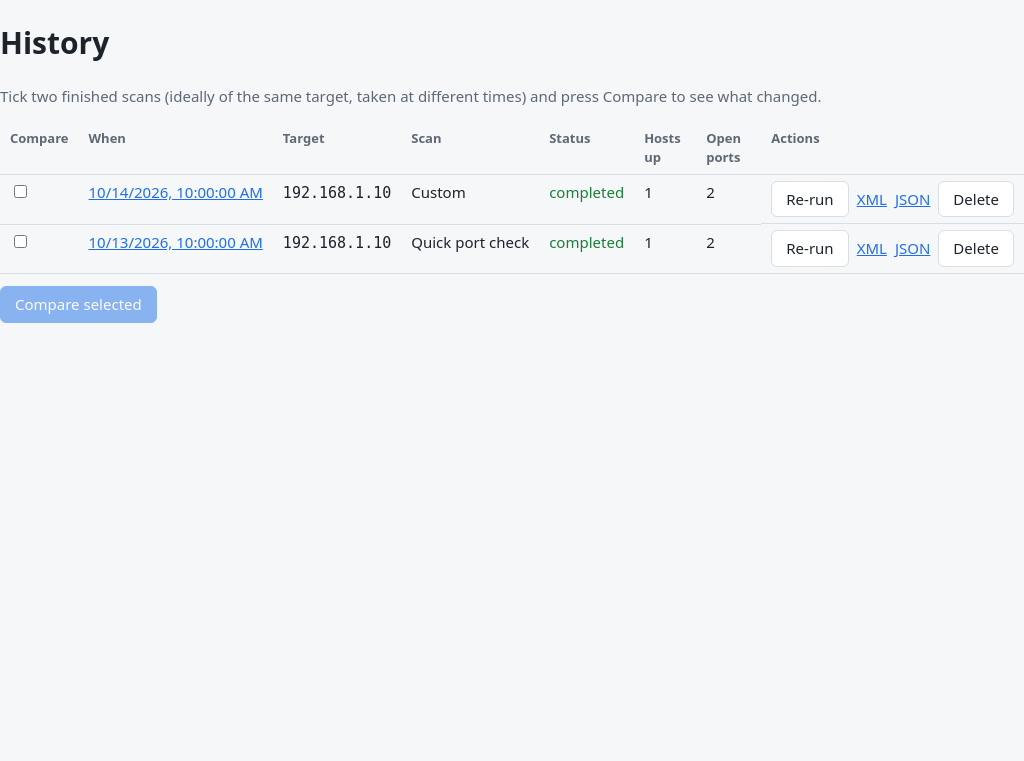
compare two scans, older first
expect the button "Compare selected" is disabled: met, box [0, 286, 157, 323]
Step 1. Click the checkbox named "Select scan of 192.168.1.10 from 10/14/2026, 10:00:00 AM" → (20, 191), box [14, 185, 27, 198]
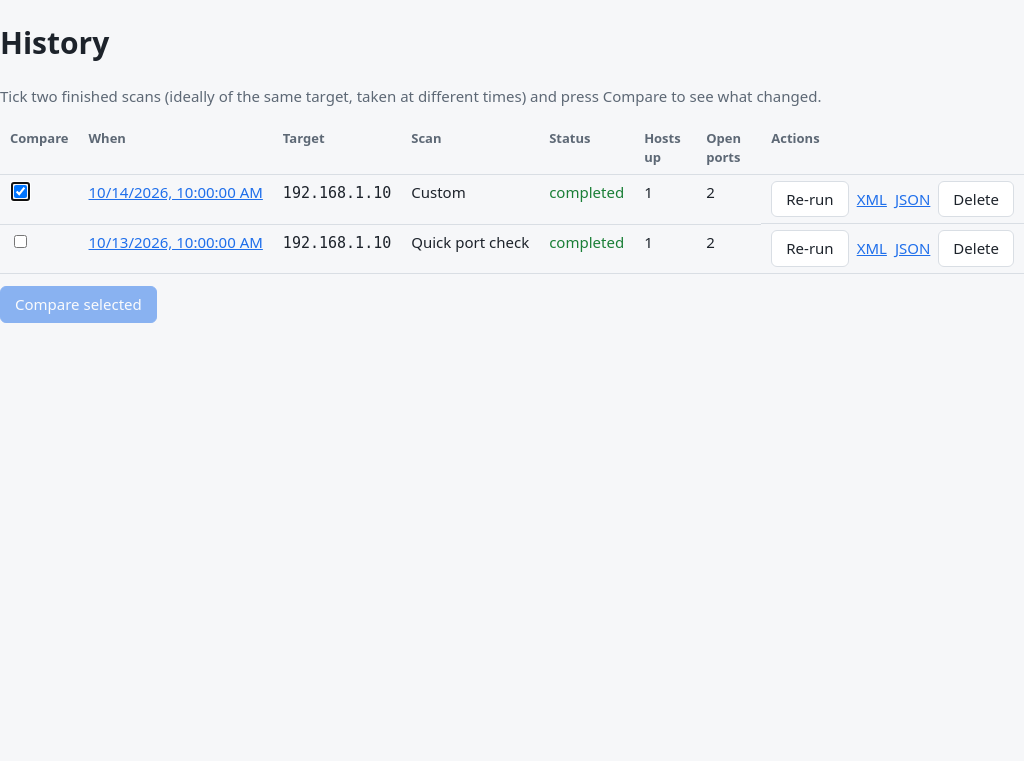
expect the button "Compare selected" is disabled: met, box [0, 286, 157, 323]
Step 2. Click the checkbox named "Select scan of 192.168.1.10 from 10/13/2026, 10:00:00 AM" → (20, 241), box [14, 235, 27, 248]
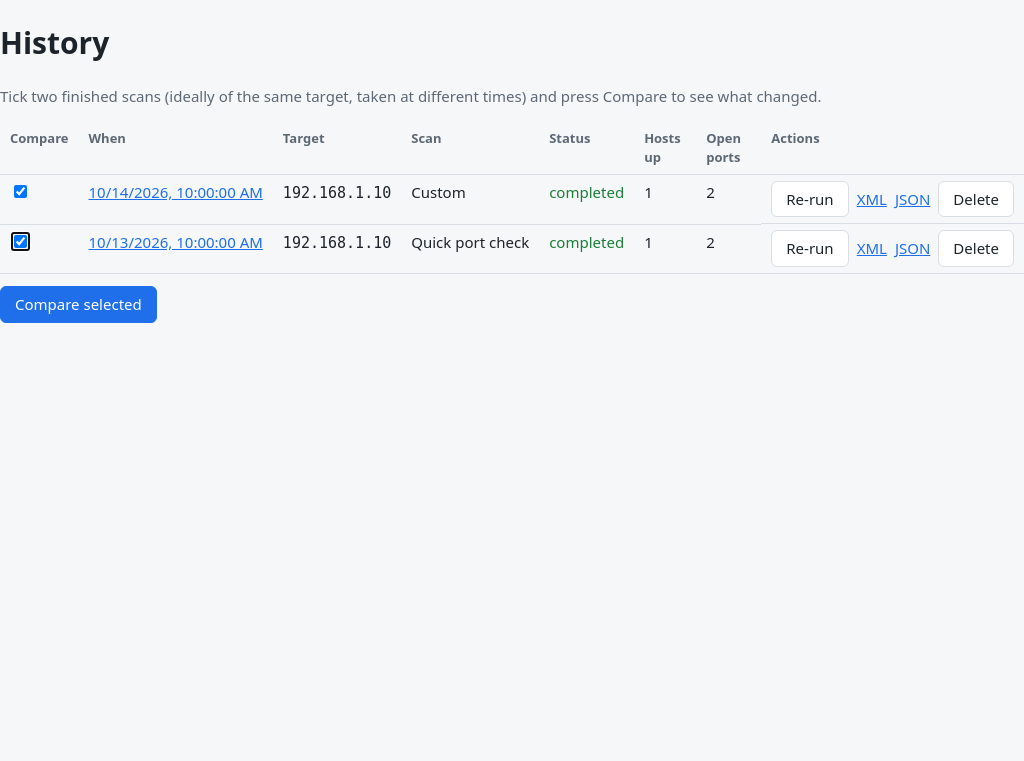
Step 3. Click the button "Compare selected" → (78, 304), box [0, 286, 157, 323]
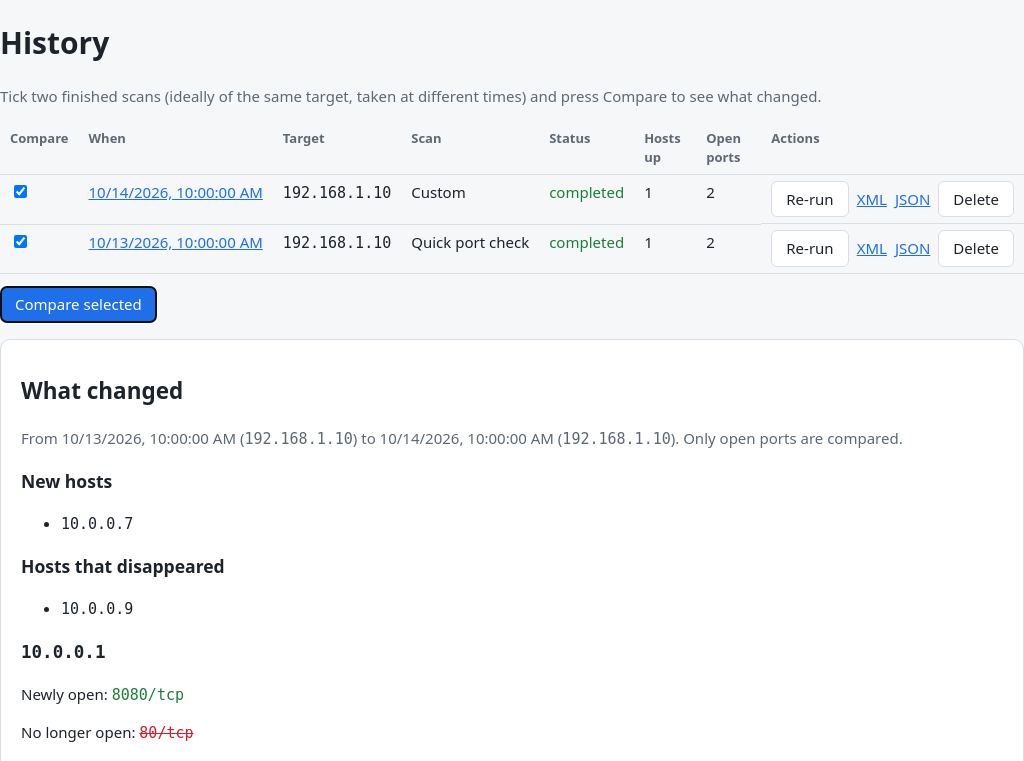
expect the text "8080/tcp" is shown: met, box [112, 686, 184, 704]
